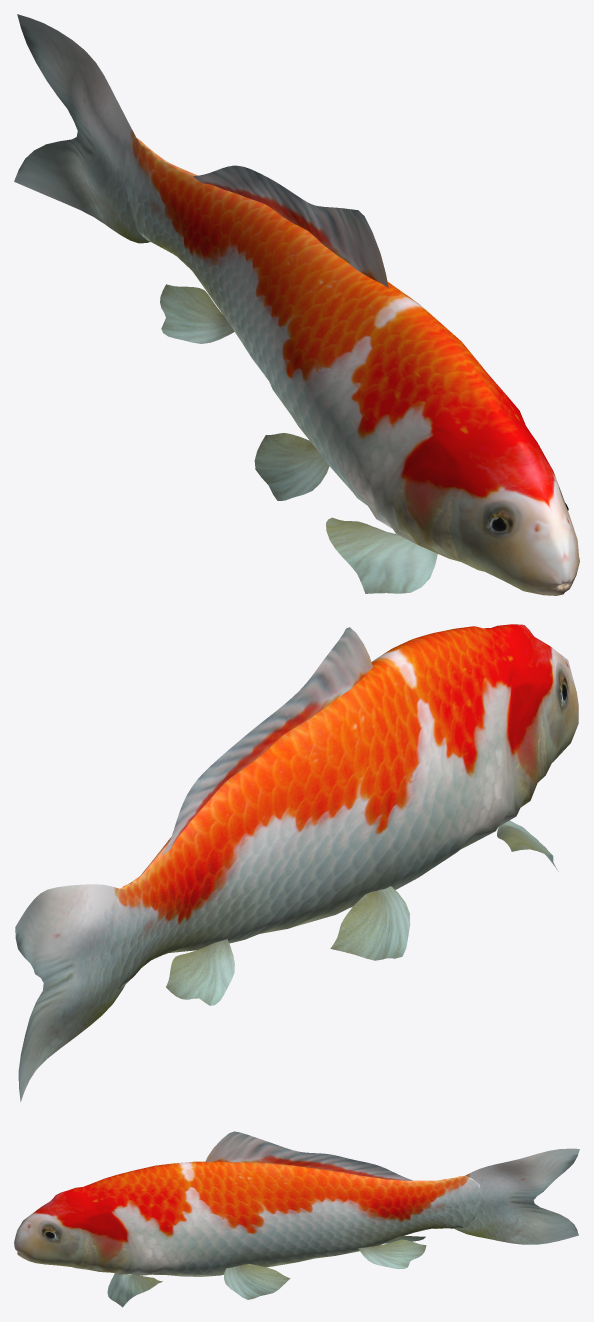
The model's file is fish.obj.
3 views of the same model, one above another, from view 1: azimuth 30°, elevation 25°; view 2: azimuth 150°, elevation 25°; view 3: azimuth 270°, elevation 25° (orthographic). The views are drawn at different scales.
Visible parts, largest first — view 1: Mesh; view 2: Mesh; view 3: Mesh.
Boxes of the visible parts, box(x1,y1,x2,y2) form: Mesh: box(14, 14, 579, 595); Mesh: box(15, 624, 578, 1101); Mesh: box(14, 1131, 579, 1307).
Size of the model in its own units: 21.98 by 26.68 by 91.1.
Materials: 1 (1 with a texture image).
